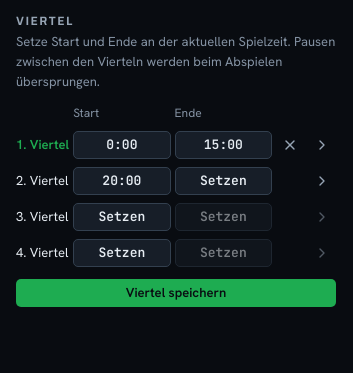
Test: QuarterEditor › explains an invalid set and keeps save disabled
What coordinates should you click on to do the following:
click the button "15:00"
I would click on:
 (223, 145)
Its box is [175,131,272,159].
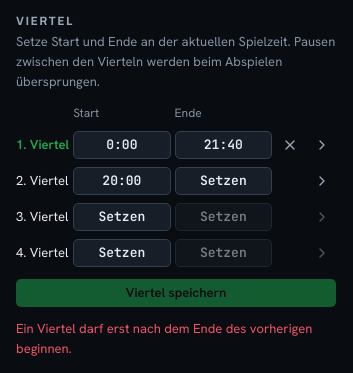
Expected: the message reads "Ein Viertel darf erst nach dem Ende des vorherigen beginnen.", [16,320,312,357]
Expected: the button "Viertel speichern" is disabled, [16,279,336,307]
